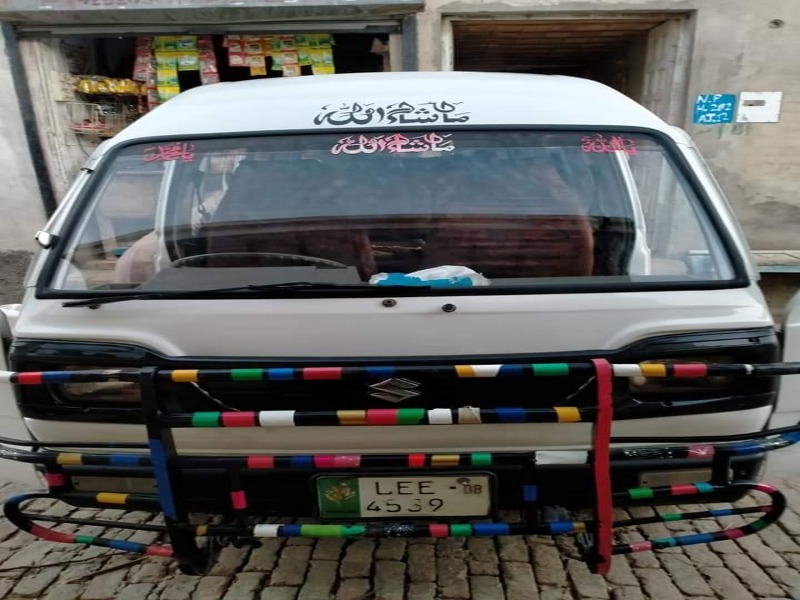License Plate: (308, 468, 502, 527)
